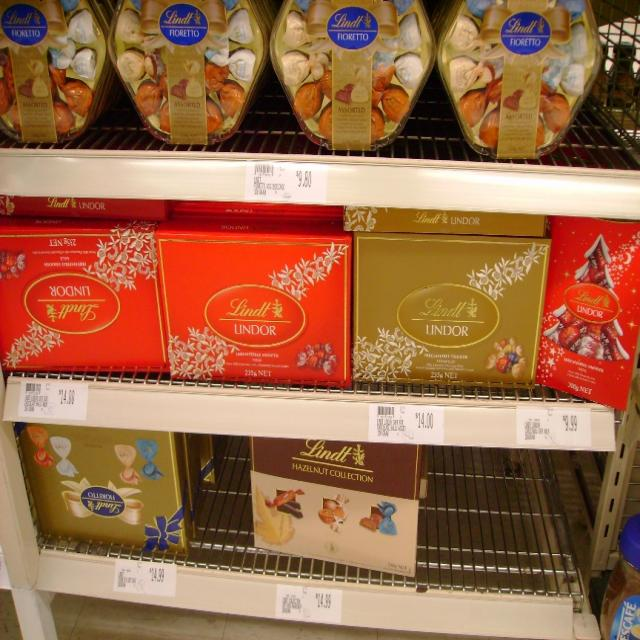q112: (353, 225, 550, 389)
